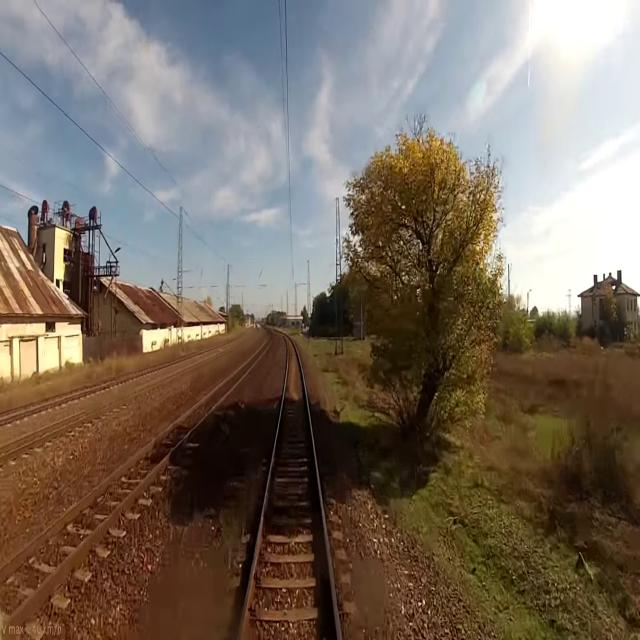rail-track: (0, 328, 271, 628), (242, 340, 337, 639), (0, 417, 78, 452), (0, 406, 34, 418)
